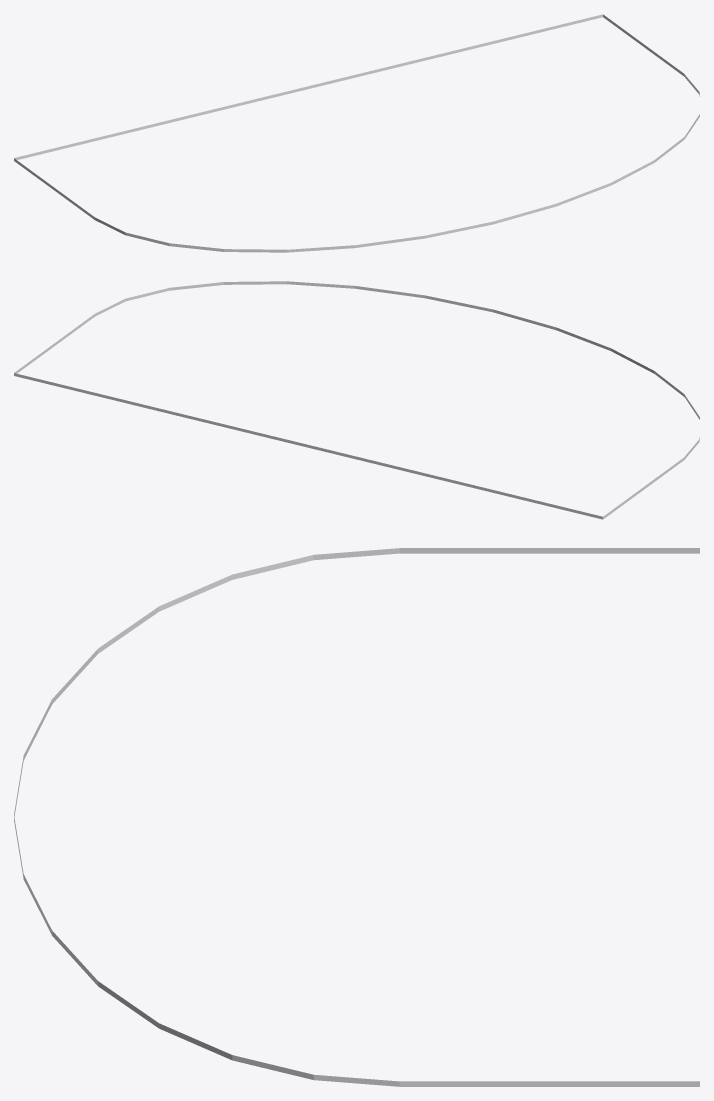
Rendered from filet.glb.
3 renders of one model, top to bottom at view 1: azimuth 30°, elevation 25°; view 2: azimuth 150°, elevation 25°; view 3: azimuth 270°, elevation 25°, orthographic. The views are drawn at different scales.
Visible parts, largest first — view 1: filet_0; view 2: filet_0; view 3: filet_0.
Part boxes in pixels (x1,y1,x2,y2): filet_0: (14,14,699,252); filet_0: (14,281,699,519); filet_0: (14,548,699,1086).
Bounding box in the file's own units: 12.64 × 0.06 × 6.87.
1 material, 1 textured.
